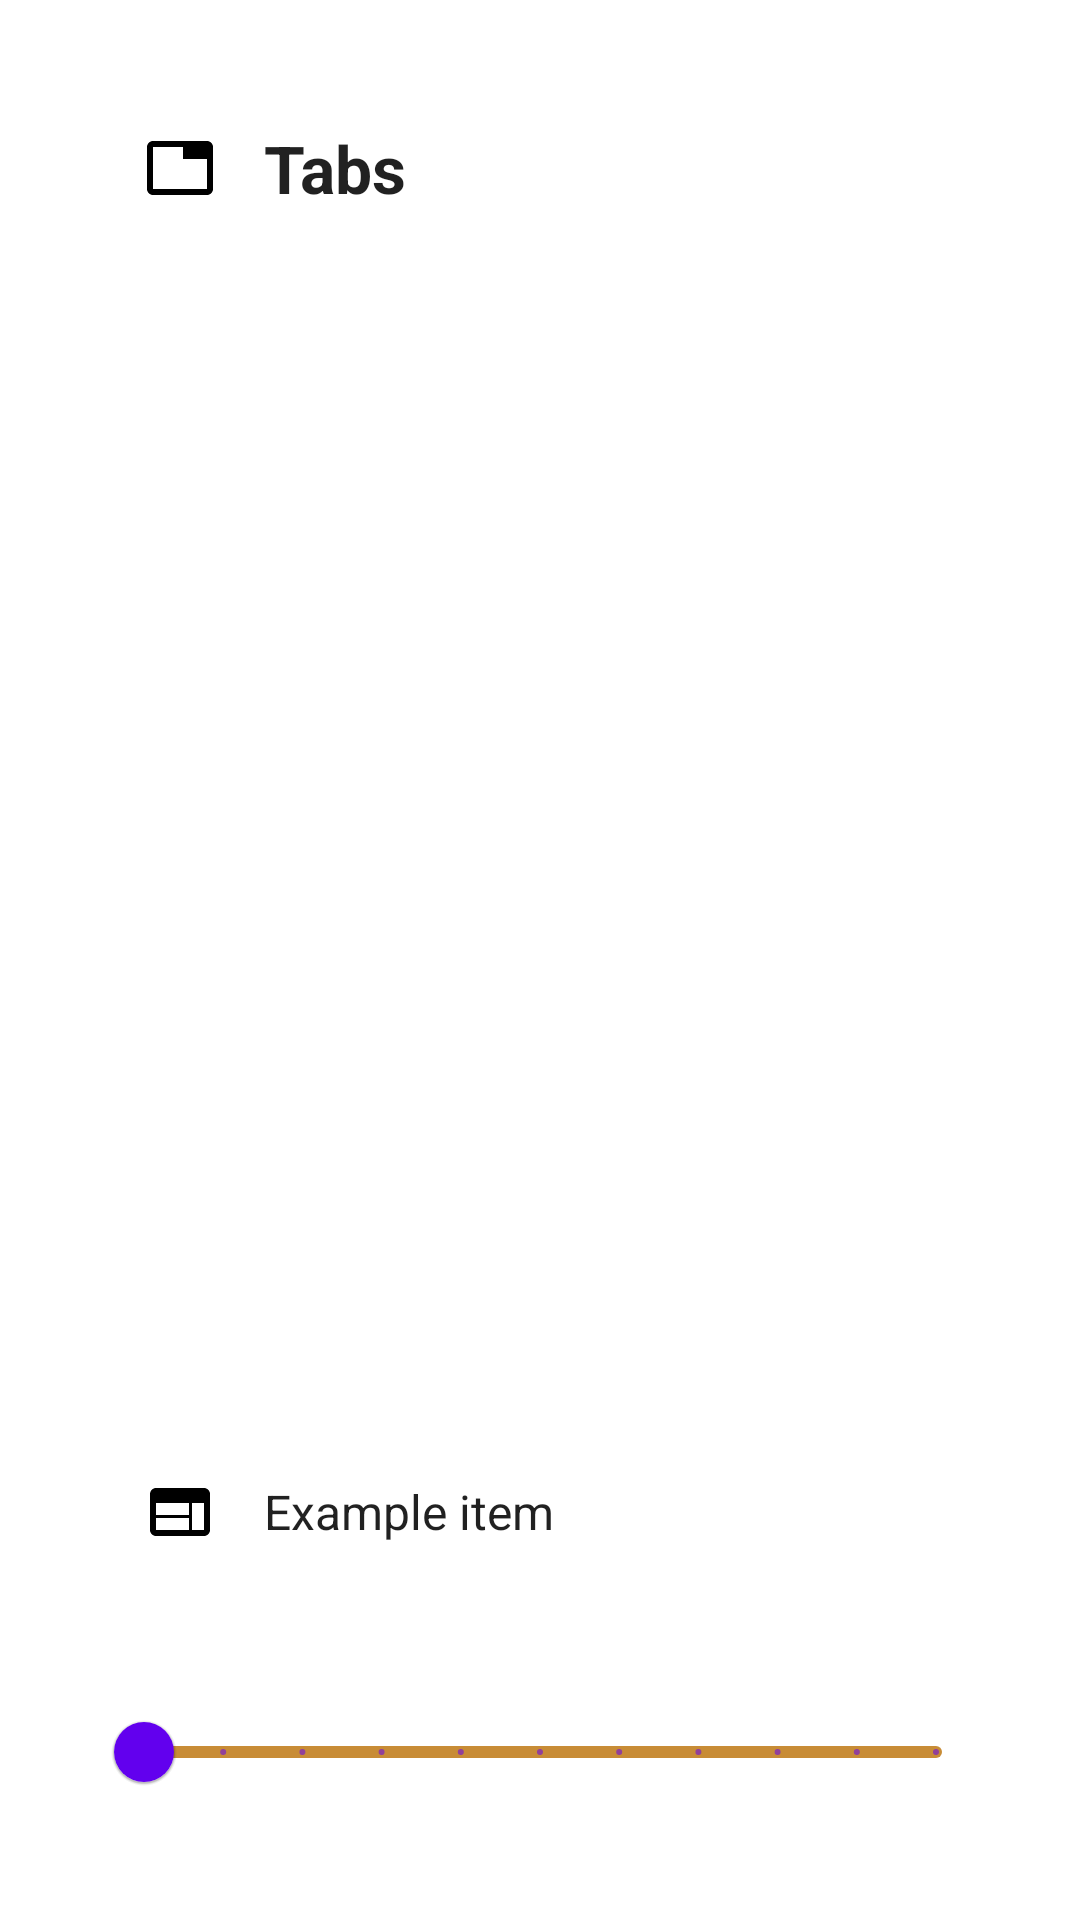

Named icons in this screenshot (1080x1920) and their centers, (x,y):
webpage: (180,1512)
